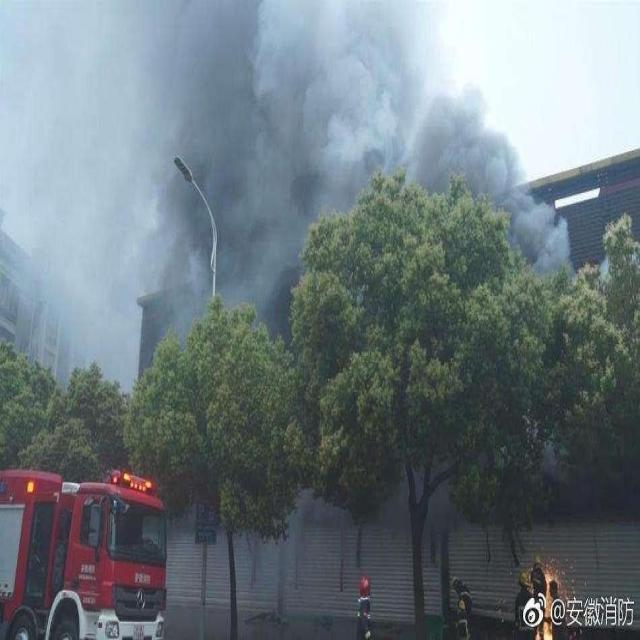Smoke: (11, 1, 574, 397)
